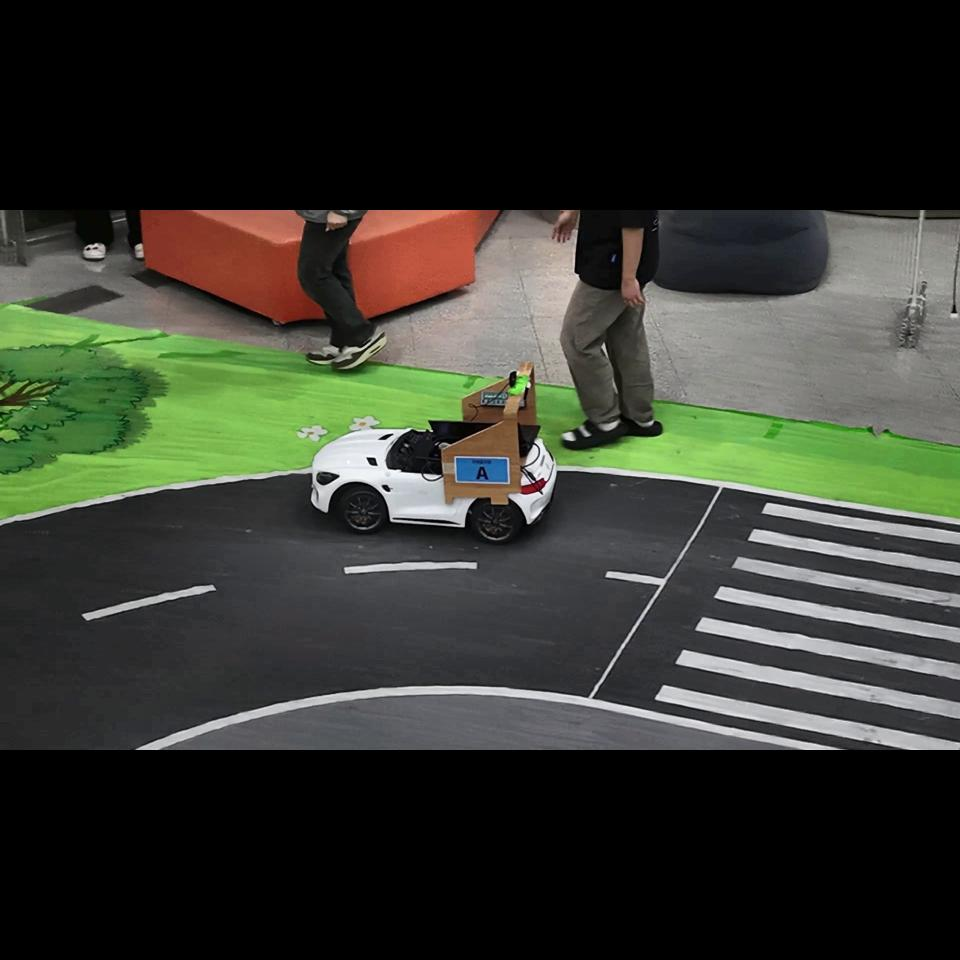broken_line: (81, 585, 217, 621), (344, 562, 477, 574), (605, 571, 664, 585)
crosswalk: (655, 502, 960, 750)
